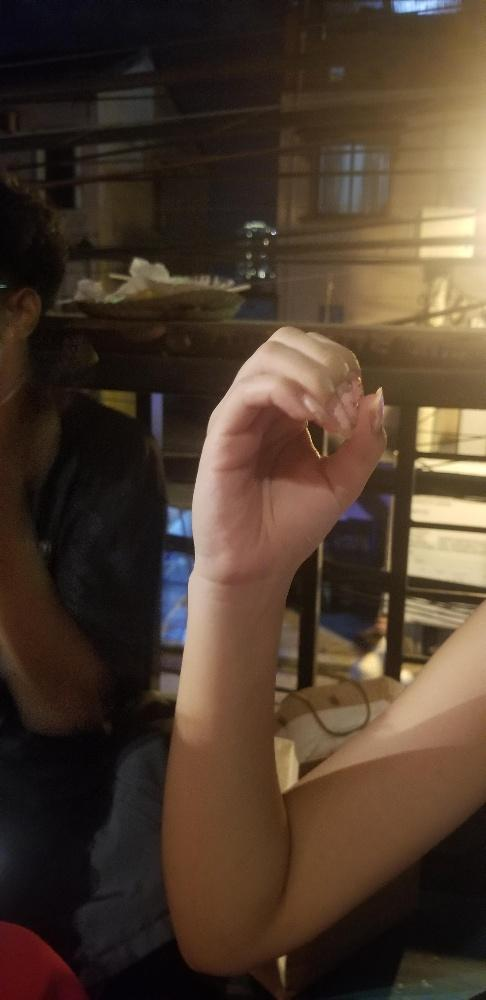o: (186, 322, 391, 583)
